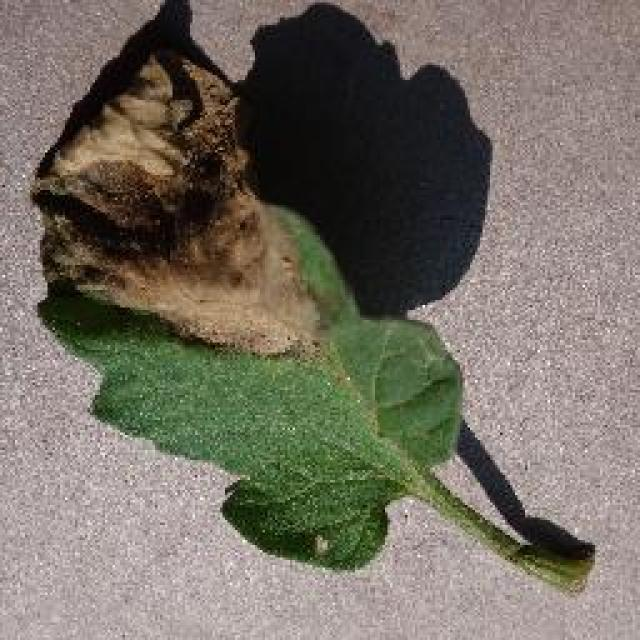Tomato___Late_blight: (30, 0, 592, 595)
